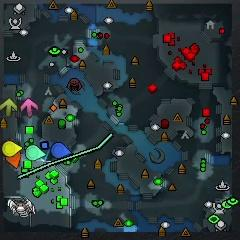p1: (51, 142, 73, 160)
p2: (26, 145, 45, 161)
p4: (1, 140, 23, 157)
p5: (6, 152, 21, 169)
x1: (19, 98, 38, 119)
x2: (0, 98, 19, 117)
